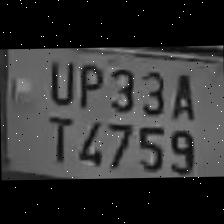3: (102, 60, 135, 113), (134, 63, 164, 116)
4: (72, 112, 104, 166)
5: (132, 118, 164, 172)
7: (100, 116, 130, 168)
9: (164, 122, 196, 174)
A: (164, 66, 196, 120)
P: (72, 56, 104, 110)
T: (40, 109, 73, 163)
U: (41, 54, 74, 104)
